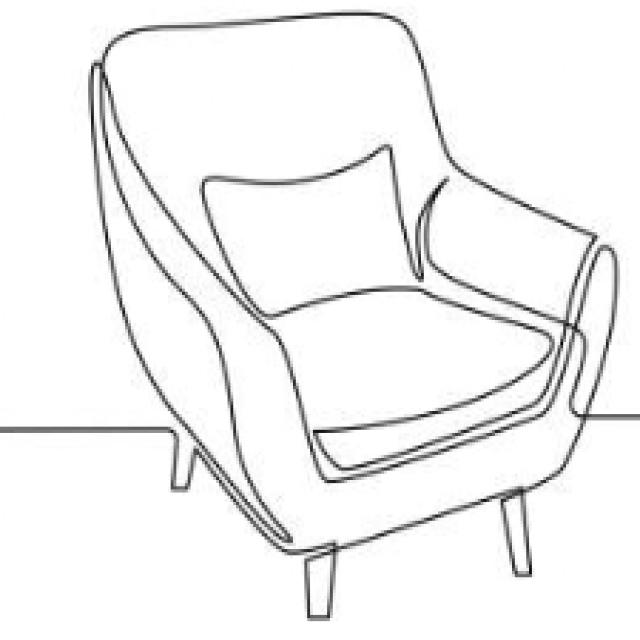Armrest: (86, 58, 331, 550), (410, 159, 626, 471)
Backrest: (100, 10, 458, 321)
Leg_Structure: (160, 397, 544, 631)
Seat: (260, 283, 564, 487)
